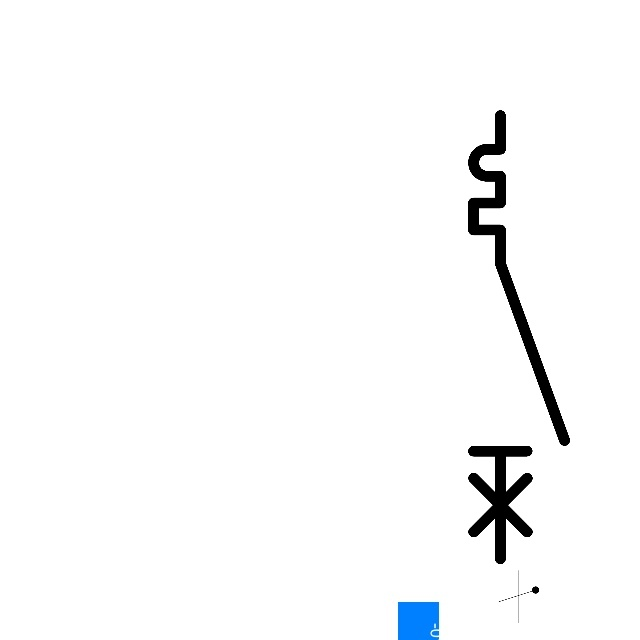interruptor_termomagnetico: (462, 104, 576, 570)
